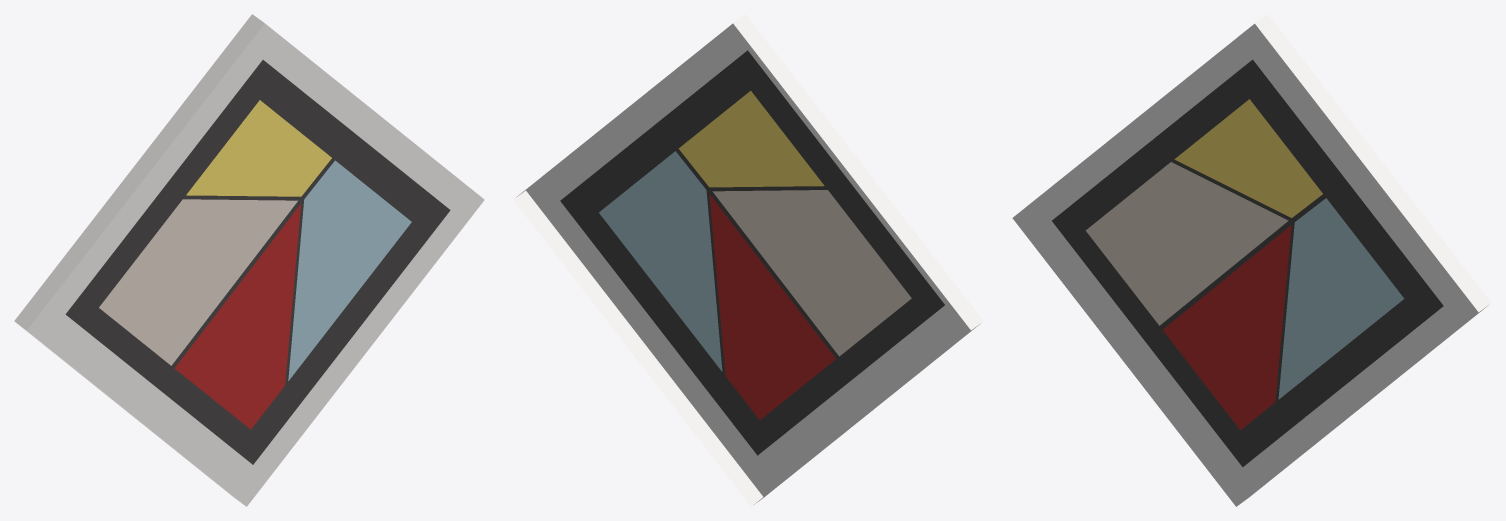
File: Picture_6.glb
3 renders of one model, left to right at view 1: azimuth 30°, elevation 25°; view 2: azimuth 150°, elevation 25°; view 3: azimuth 330°, elevation 25°, orthographic.
Visible parts, largest first — view 1: Picture_6; view 2: Picture_6; view 3: Picture_6.
Part boxes in pixels (box(x1,y1,x2,y2)): Picture_6: box(14, 14, 484, 506); Picture_6: box(513, 14, 983, 506); Picture_6: box(1012, 14, 1491, 506).
Bounding box in the file's own units: 1.21 × 1.21 × 0.0582.
Materials: 1 (1 with a texture image).
